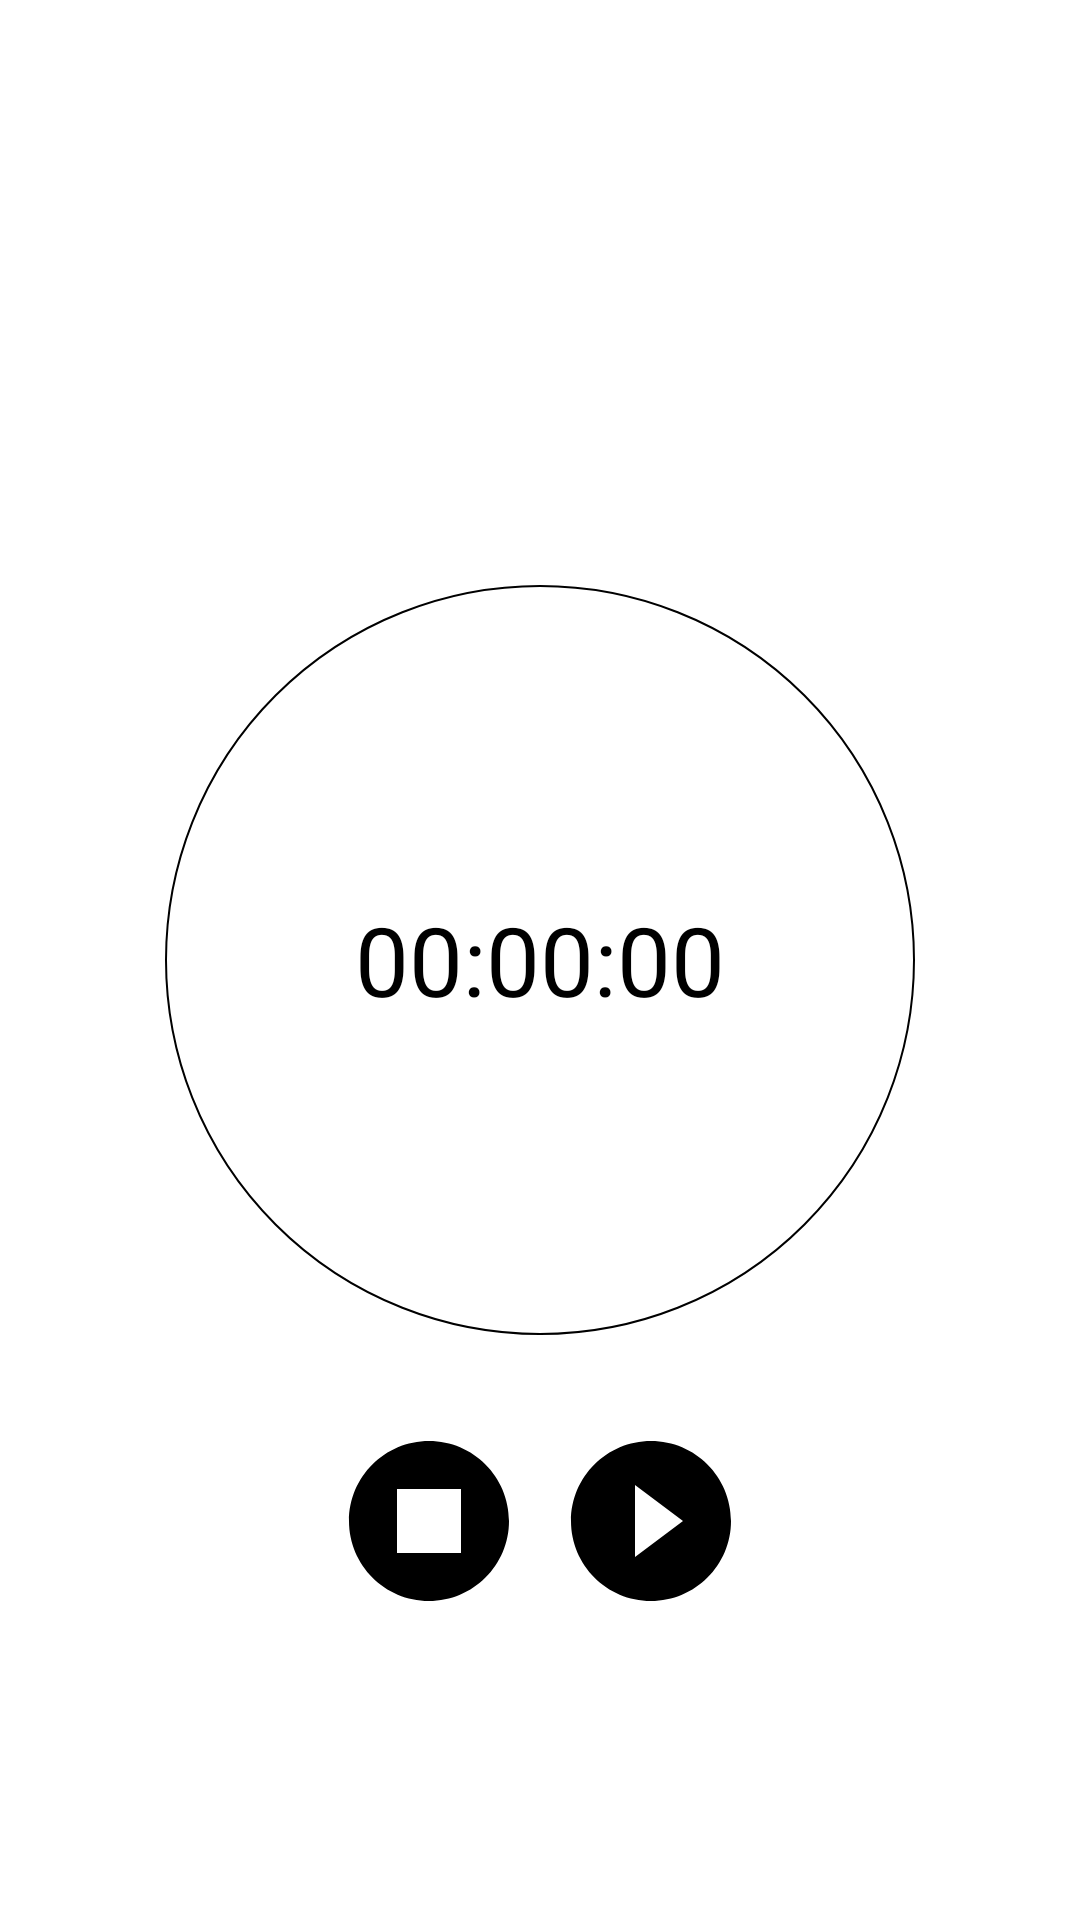

Named icons in this screenshot (1080w x 1920h) and their centers, [x,y]:
Play: [650,1521]
Stop: [428,1521]
